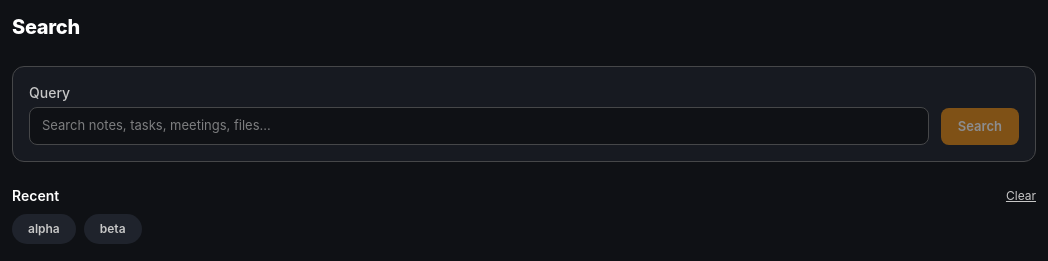
Search page › clear removes recent history
This screenshot has width=1048, height=261.
Expected: the button "alpha" is shown, [12, 214, 76, 244]
Click the button "Clear". click: (1021, 196)
box: [1006, 188, 1036, 204]
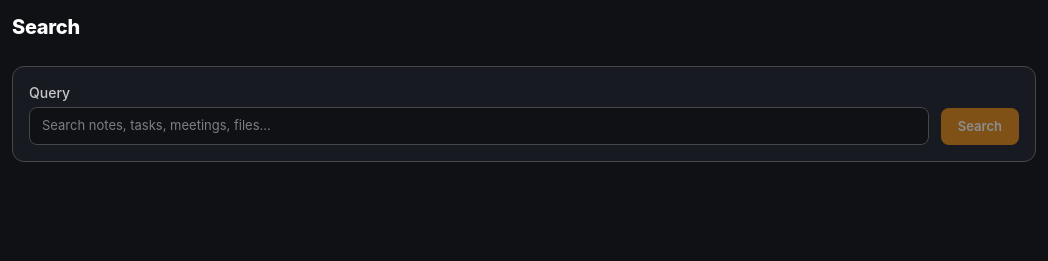
Result: the button "alpha" is gone
